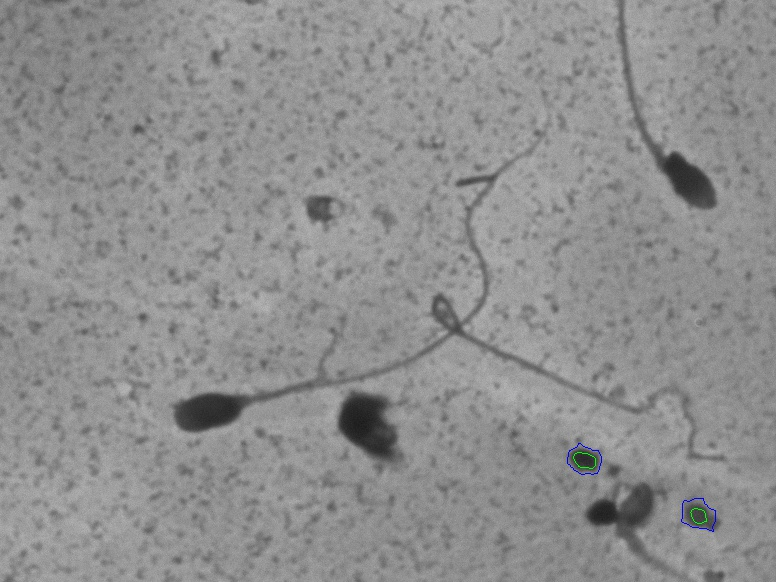Abnormal: (161, 75, 563, 447), (590, 11, 732, 227)
